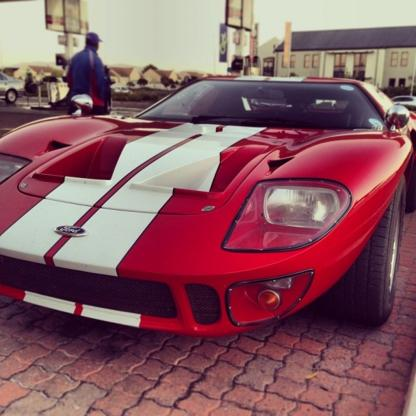Car: (1, 76, 416, 339)
